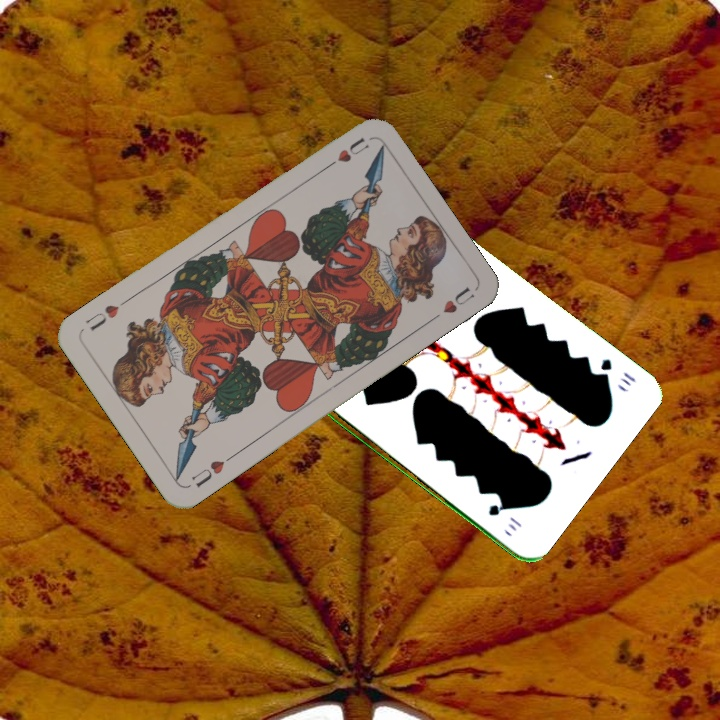G10: (594, 354, 638, 388)
HU: (320, 133, 372, 173), (187, 450, 237, 491)
